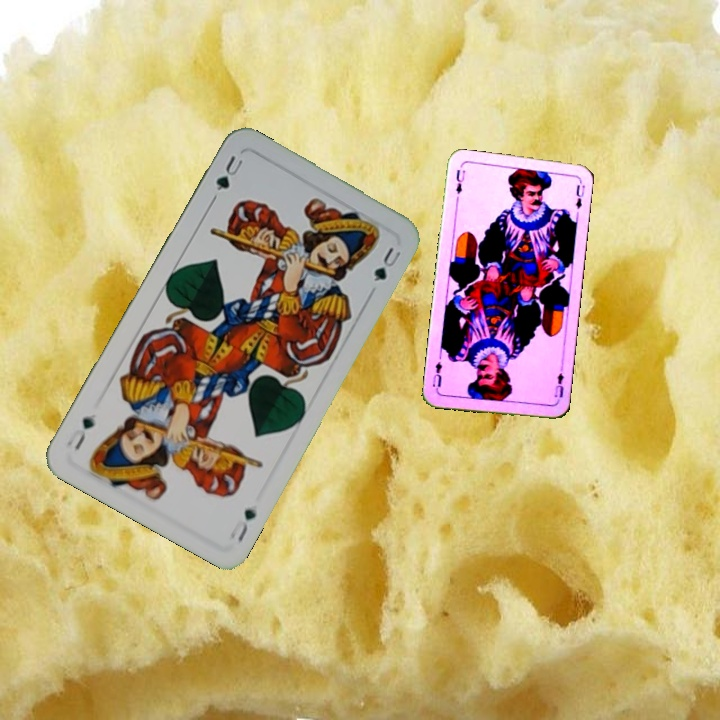EU: (550, 364, 567, 405), (452, 166, 467, 197)
GU: (211, 151, 246, 195), (226, 504, 259, 545)
